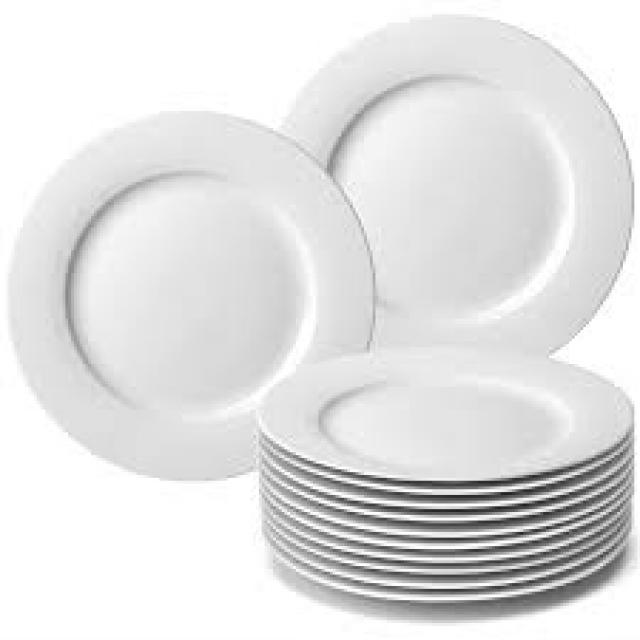plate: (4, 100, 382, 490)
